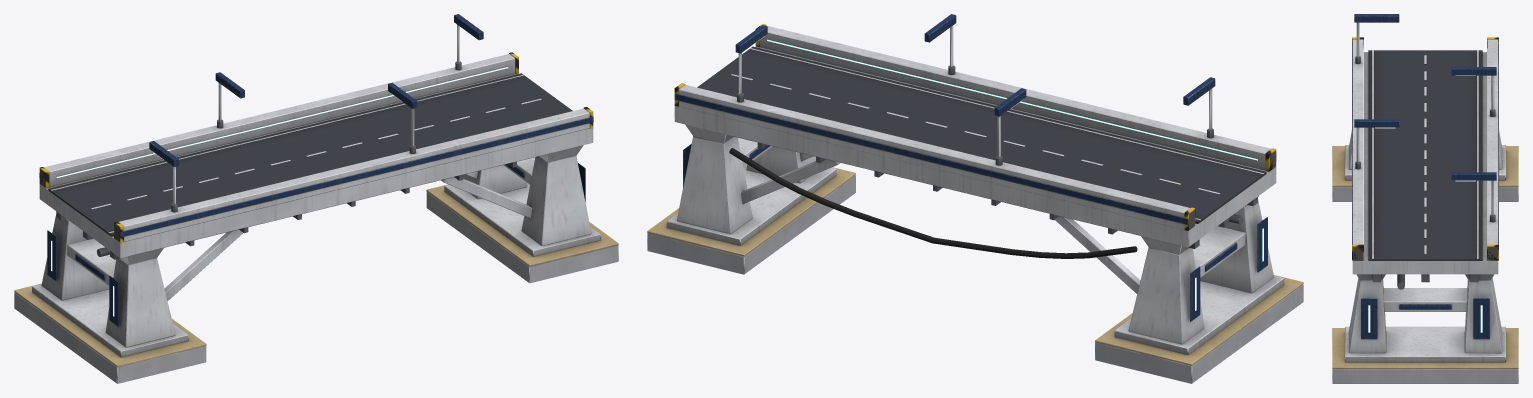
3 renders of one model, left to right at view 1: azimuth 30°, elevation 25°; view 2: azimuth 150°, elevation 25°; view 3: azimuth 270°, elevation 25°, orthographic. The views are drawn at different scales.
Parts seen in each view (by area): view 1: Bridge_Mesh; view 2: Bridge_Mesh; view 3: Bridge_Mesh.
Part boxes in pixels (bbox=[...]): Bridge_Mesh: bbox=[14, 14, 618, 383]; Bridge_Mesh: bbox=[647, 14, 1303, 383]; Bridge_Mesh: bbox=[1332, 14, 1518, 383].
Bounding box in the file's own units: 28 × 10.58 × 9.97.
3 materials, 1 textured.
